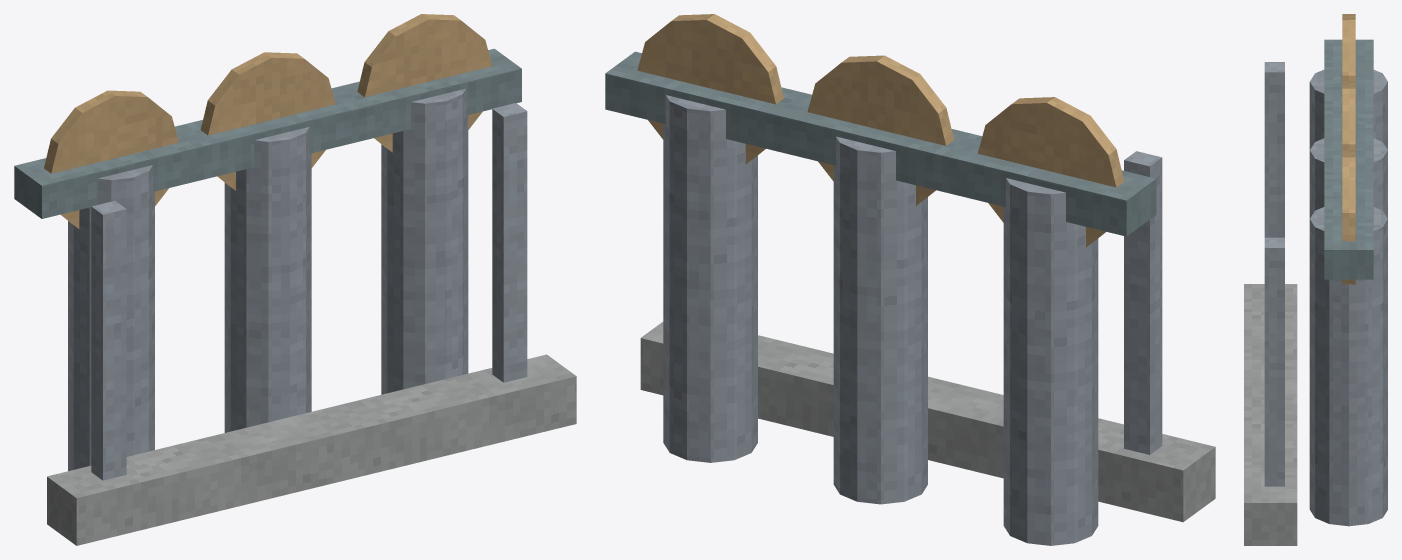
Rendered from level_blockout_dam_valve_manifold.glb.
3 renders of one model, left to right at view 1: azimuth 30°, elevation 25°; view 2: azimuth 150°, elevation 25°; view 3: azimuth 270°, elevation 25°, orthographic. The views are drawn at different scales.
Visible parts, largest first — view 1: level_blockout_dam_valve_manifold; view 2: level_blockout_dam_valve_manifold; view 3: level_blockout_dam_valve_manifold.
Part boxes in pixels (x1=…): level_blockout_dam_valve_manifold: x1=14, y1=14, x2=576, y2=545; level_blockout_dam_valve_manifold: x1=605, y1=14, x2=1215, y2=545; level_blockout_dam_valve_manifold: x1=1244, y1=14, x2=1387, y2=545.
Size of the model in its own units: 2.52 by 1.89 by 0.7.
4 materials, 4 textured.
